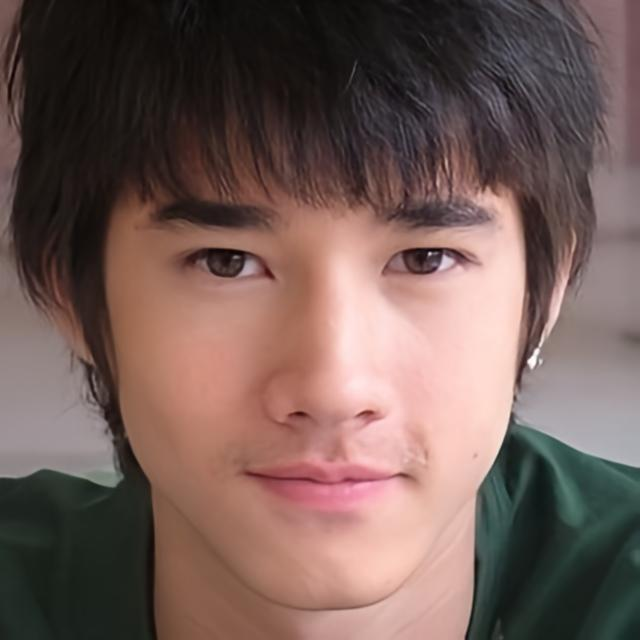content: (107, 82, 527, 610)
